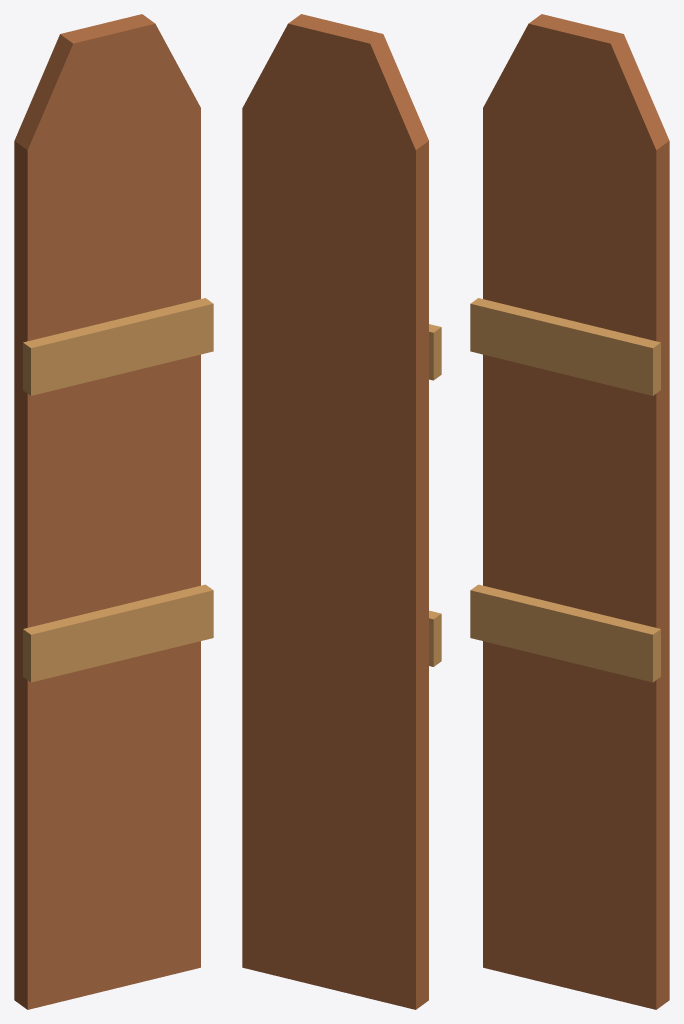
File: fence.glb
3 renders of one model, left to right at view 1: azimuth 30°, elevation 25°; view 2: azimuth 150°, elevation 25°; view 3: azimuth 330°, elevation 25°, orthographic.
Parts seen in each view (by area): view 1: Cube; view 2: Cube; view 3: Cube.
Part boxes in pixels (x1,y1,x2,y2): Cube: (14, 14, 213, 1009); Cube: (242, 14, 441, 1009); Cube: (470, 14, 669, 1009).
Size of the model in its own units: 0.4 by 2 by 0.08.
Materials: 1 (1 with a texture image).
